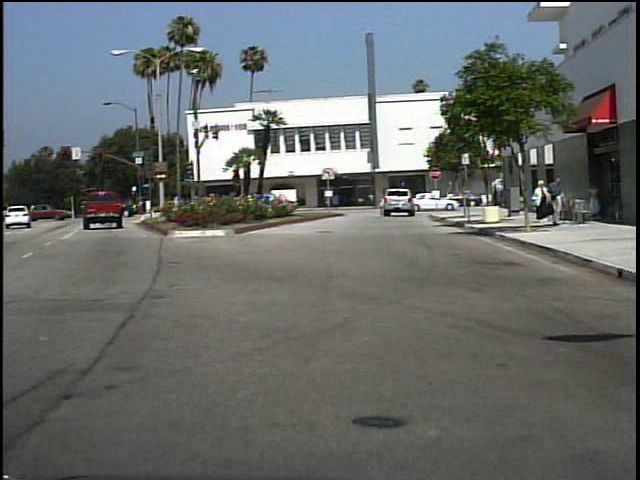person: (547, 175, 567, 232), (484, 182, 508, 214), (534, 179, 550, 223), (585, 180, 601, 223), (370, 188, 391, 217)
